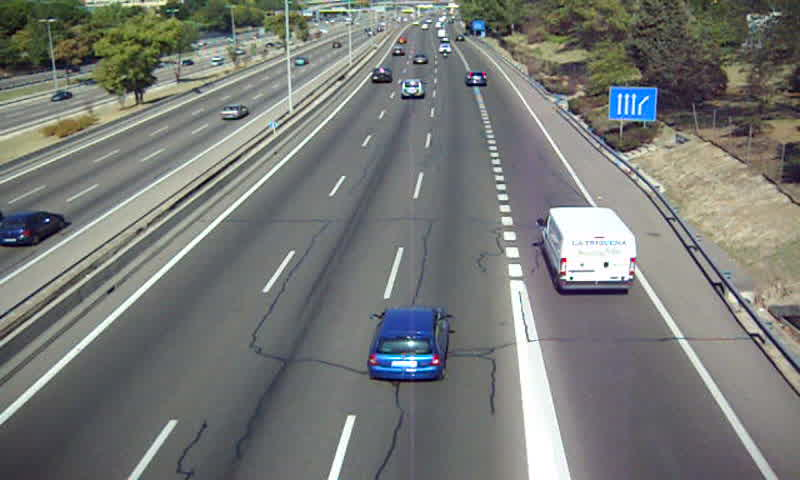car: (366, 308, 449, 379), (399, 80, 425, 100), (370, 66, 392, 85), (464, 72, 490, 88)
van: (536, 207, 636, 291)
